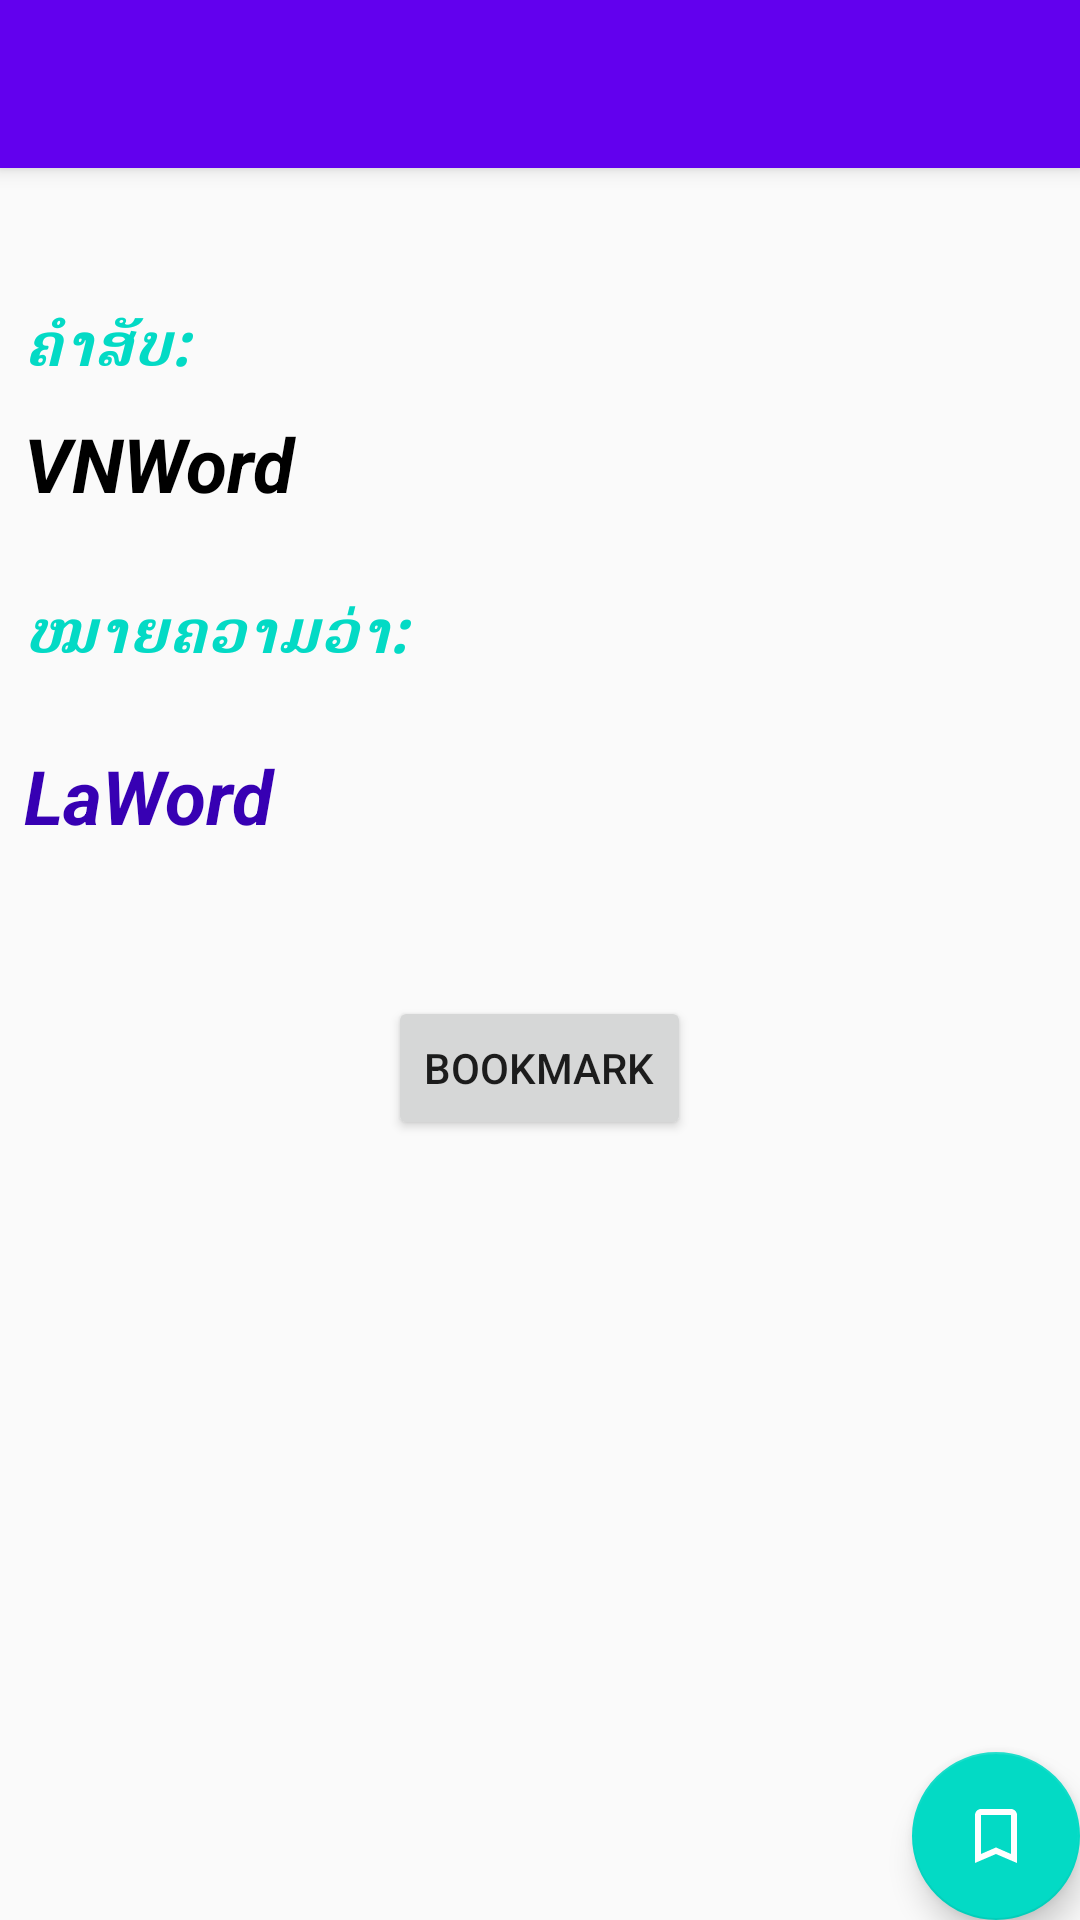

Icons on this 1080w x 1920h Android screen, each with the point to tap as (x,y):
bookmark border: (996,1836)
